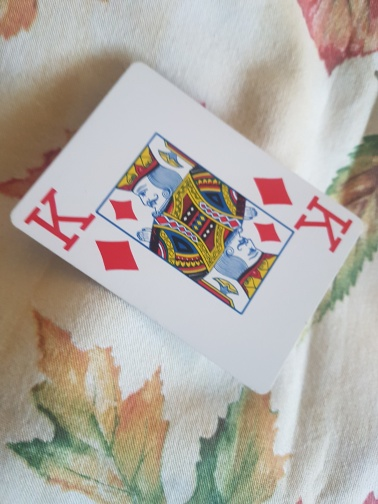king: (8, 62, 362, 394)
